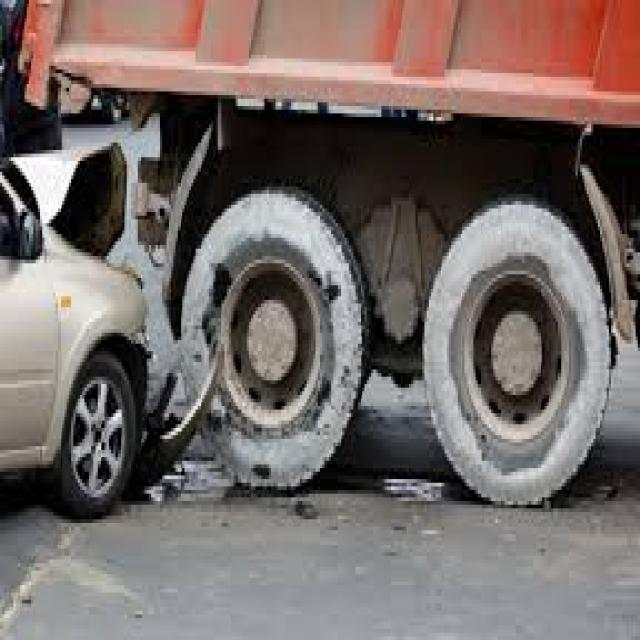accident: (0, 20, 284, 593)
